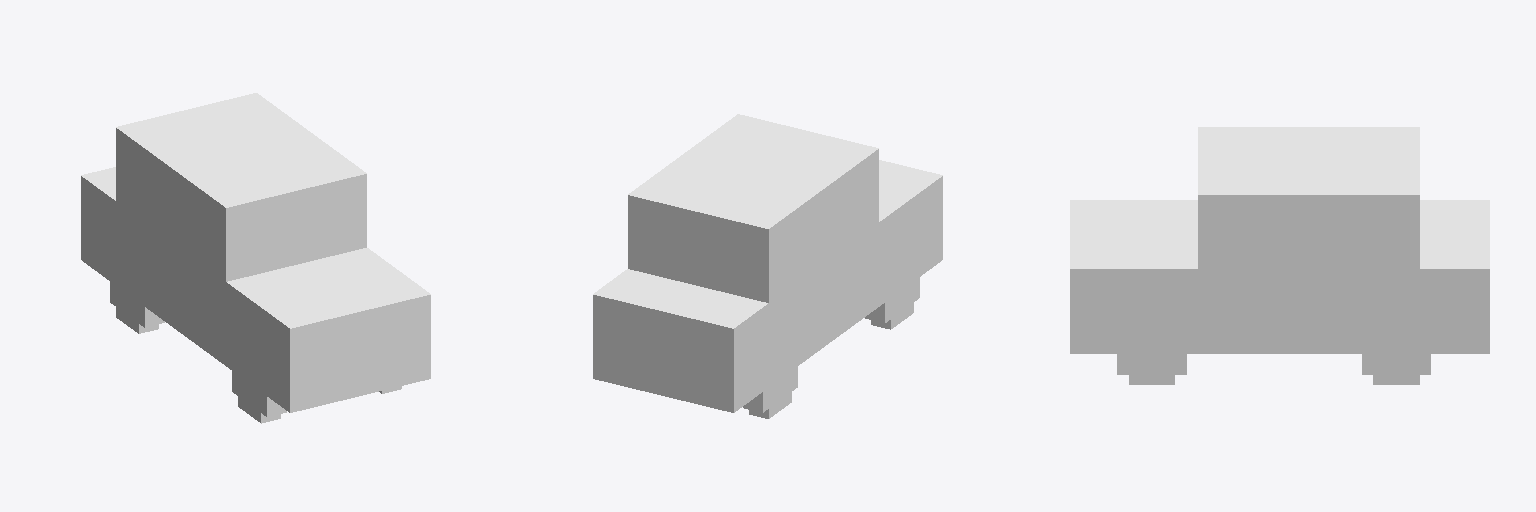
File: chequered.obj
3 renders of one model, left to right at view 1: azimuth 30°, elevation 25°; view 2: azimuth 150°, elevation 25°; view 3: azimuth 270°, elevation 25°, orthographic.
Visible parts, largest first — view 1: object 1; view 2: object 1; view 3: object 1.
Part boxes in pixels (x1,y1,x2,y2): object 1: (81, 93, 430, 423); object 1: (593, 114, 942, 418); object 1: (1070, 127, 1489, 384).
Size of the model in its own units: 1.4 by 1.8 by 3.6.